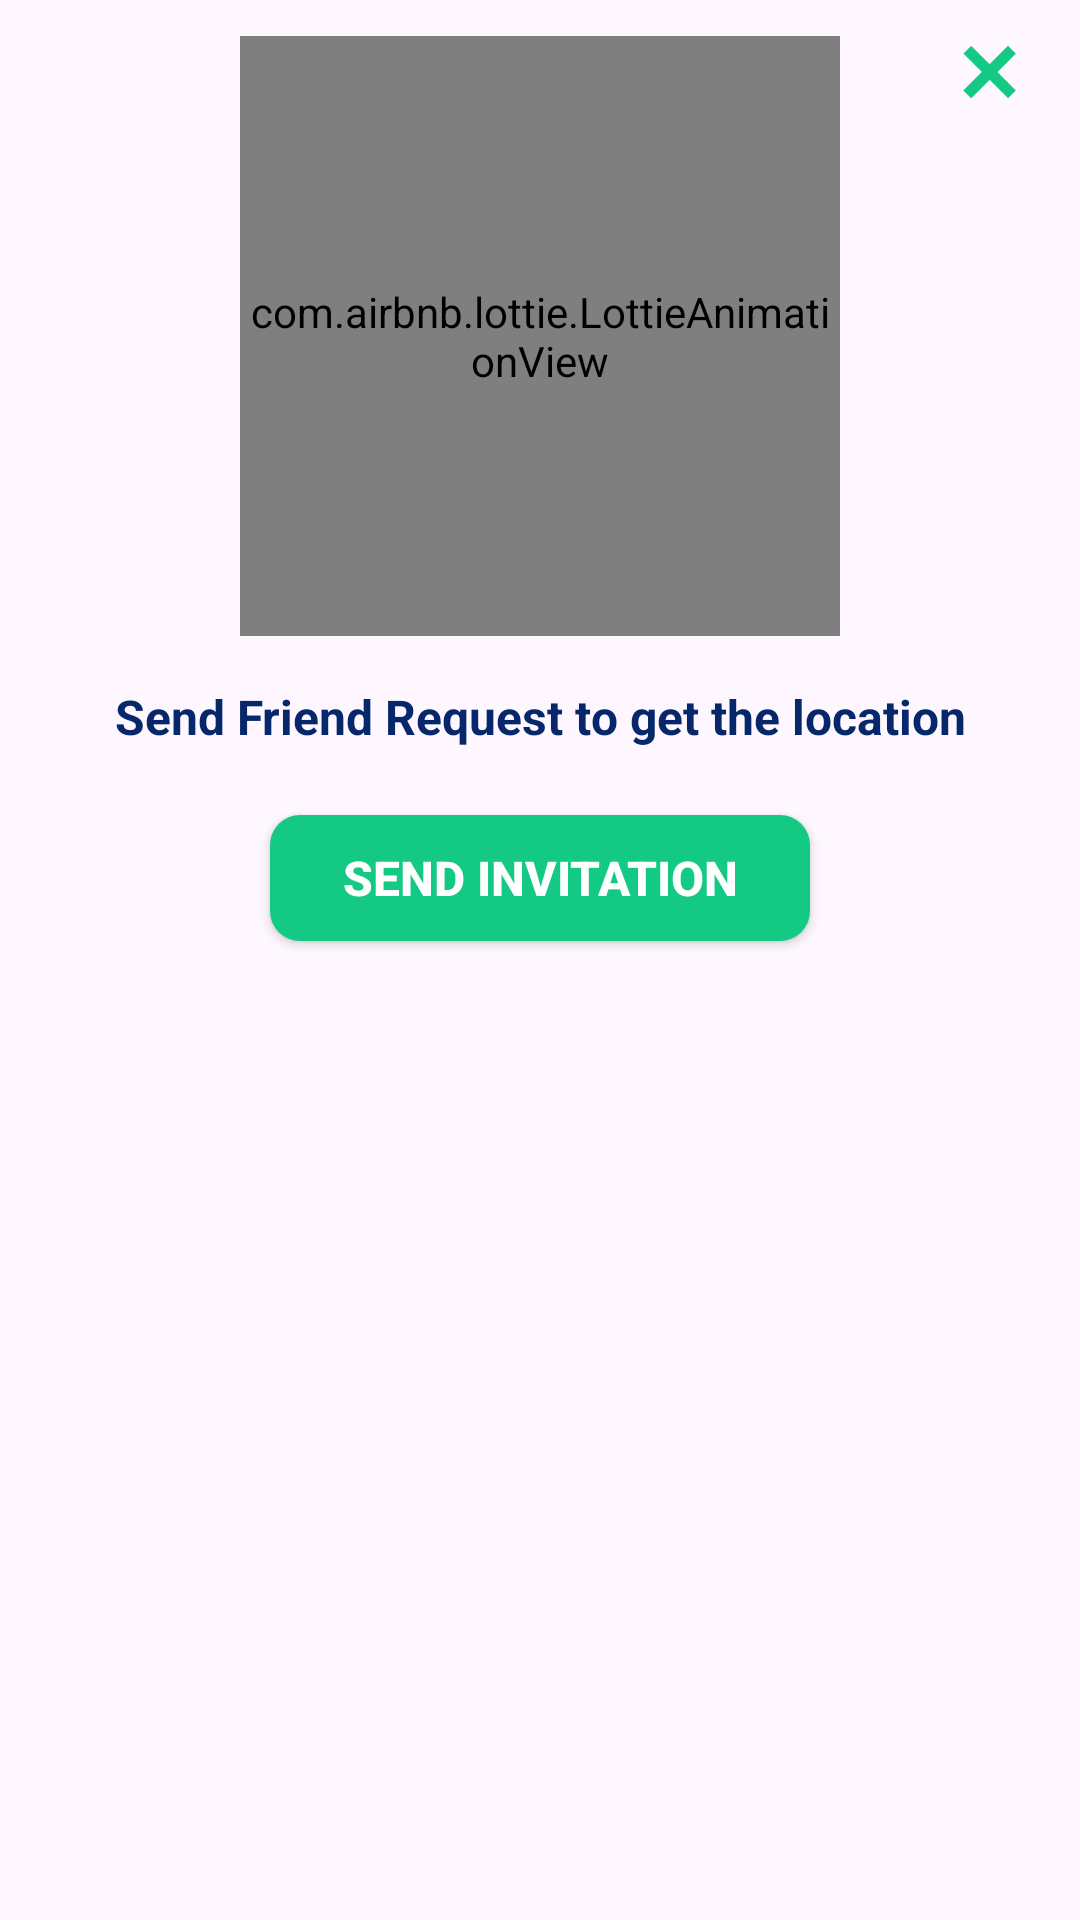

Icon click points for this 1080×1920 phone screenshot, format point (x, y):
close: point (989, 72)
